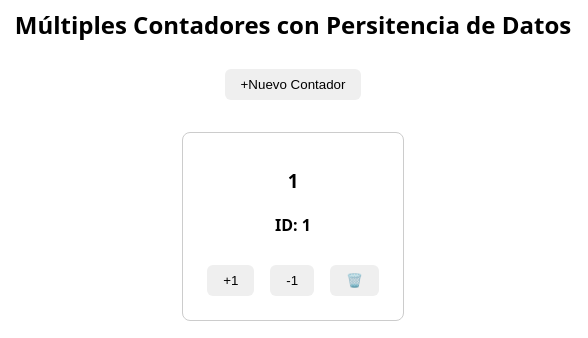
Test: MultiCounterStorage component › increments a saved counter and updates localStorage
Expected: the heading "1" is shown, x1=288 y1=168 x2=298 y2=192
Click the button "+1": (231, 281) x1=207 y1=265 x2=254 y2=296
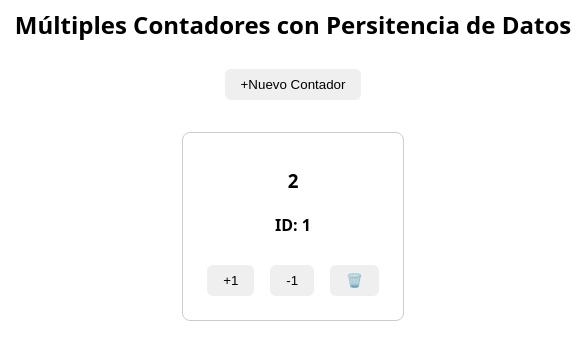
Now the heading "2" is shown, box x1=288 y1=168 x2=298 y2=192
